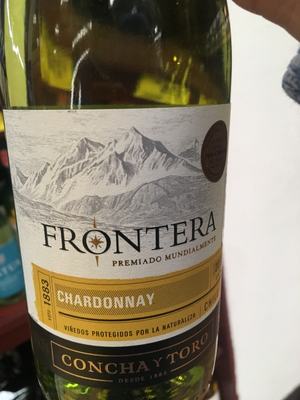frontera chardonnay: (3, 16, 238, 400)
